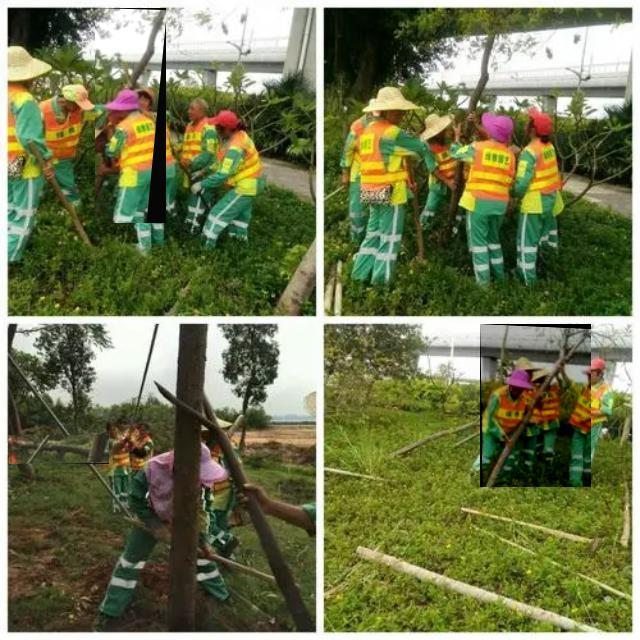fallen_tree: (480, 324, 592, 488), (95, 8, 167, 224), (8, 435, 110, 465)
